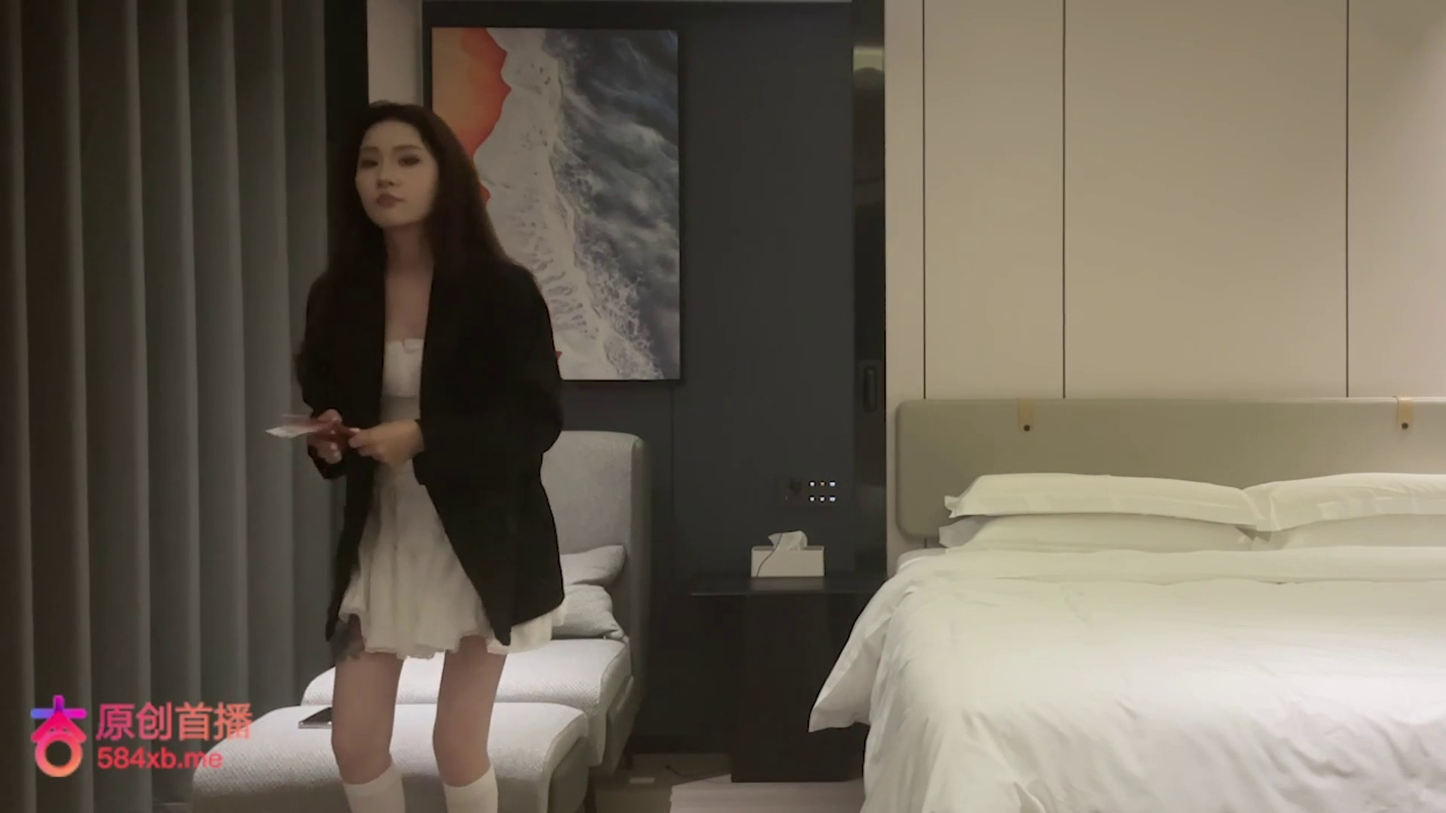stand: (288, 99, 567, 808)
